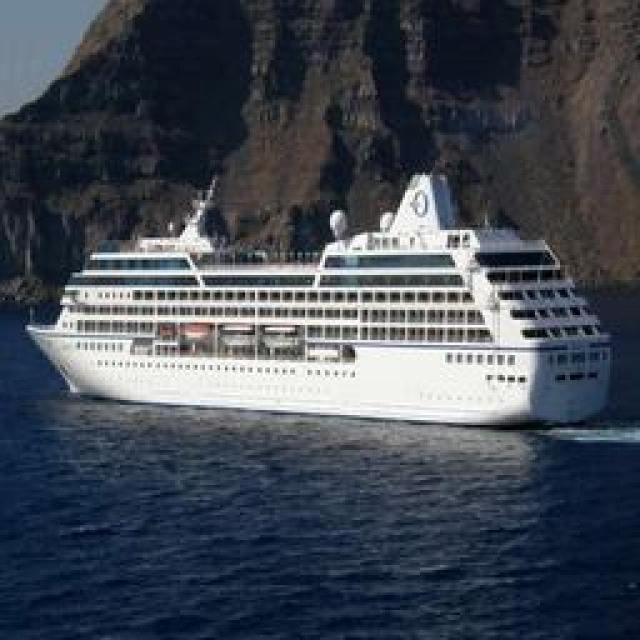CIV_Ship: (42, 194, 610, 432)
